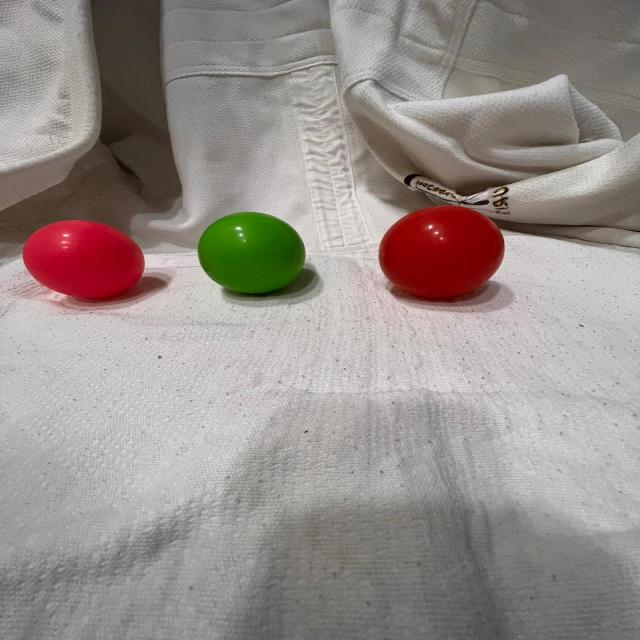ball: (377, 202, 506, 302), (17, 218, 148, 302), (195, 209, 309, 298)
